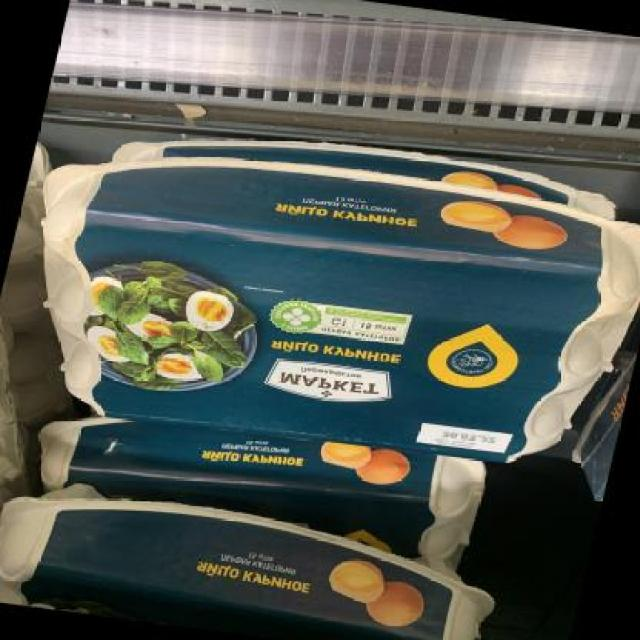Egg: (1, 139, 640, 487), (1, 478, 510, 640), (28, 402, 494, 555)
